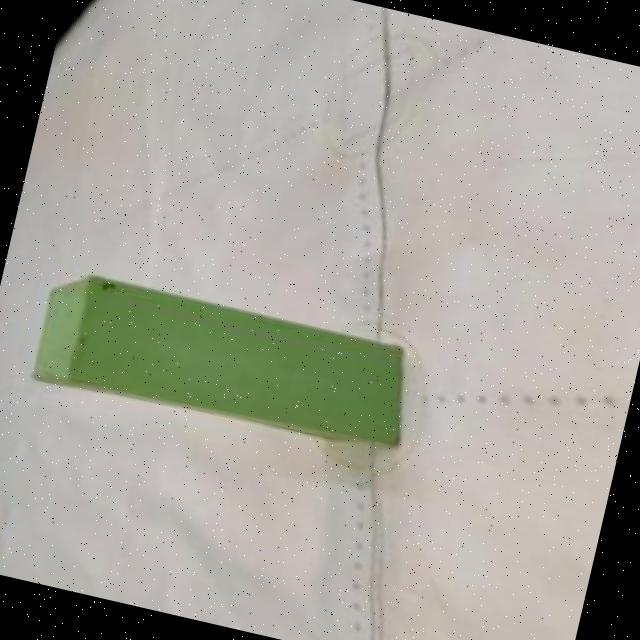greenbox: (28, 264, 423, 466)
